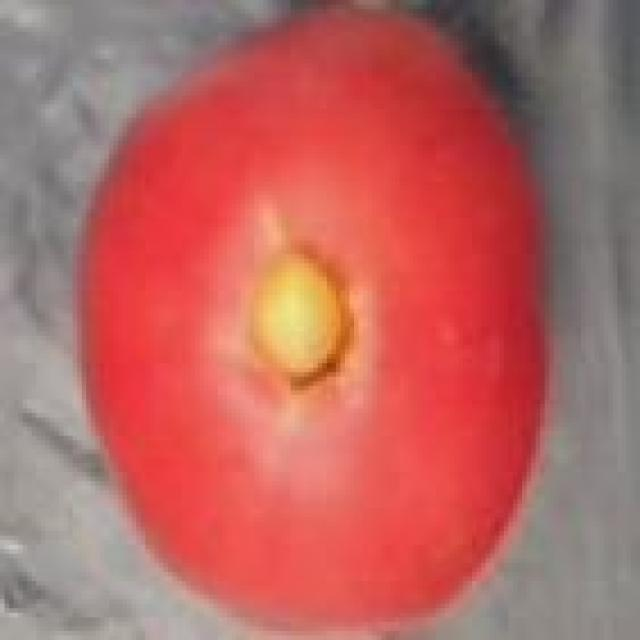overripe tomato: (72, 0, 562, 640)
